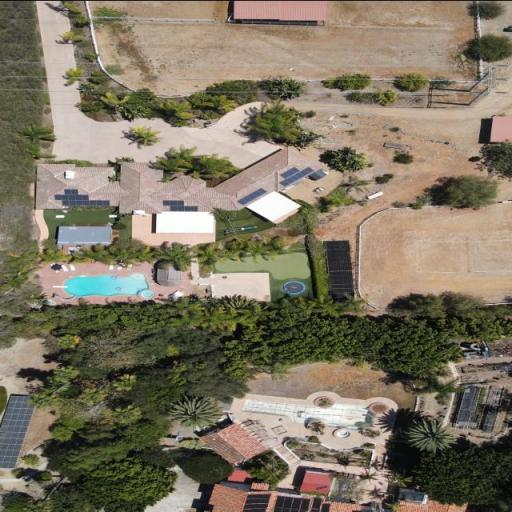solar-panel: (0, 395, 39, 468), (325, 240, 355, 304), (54, 188, 110, 205), (279, 166, 315, 186), (272, 494, 310, 512), (236, 187, 267, 205), (242, 493, 271, 512), (163, 200, 198, 211), (310, 496, 322, 512), (320, 502, 331, 512), (316, 485, 328, 489)
